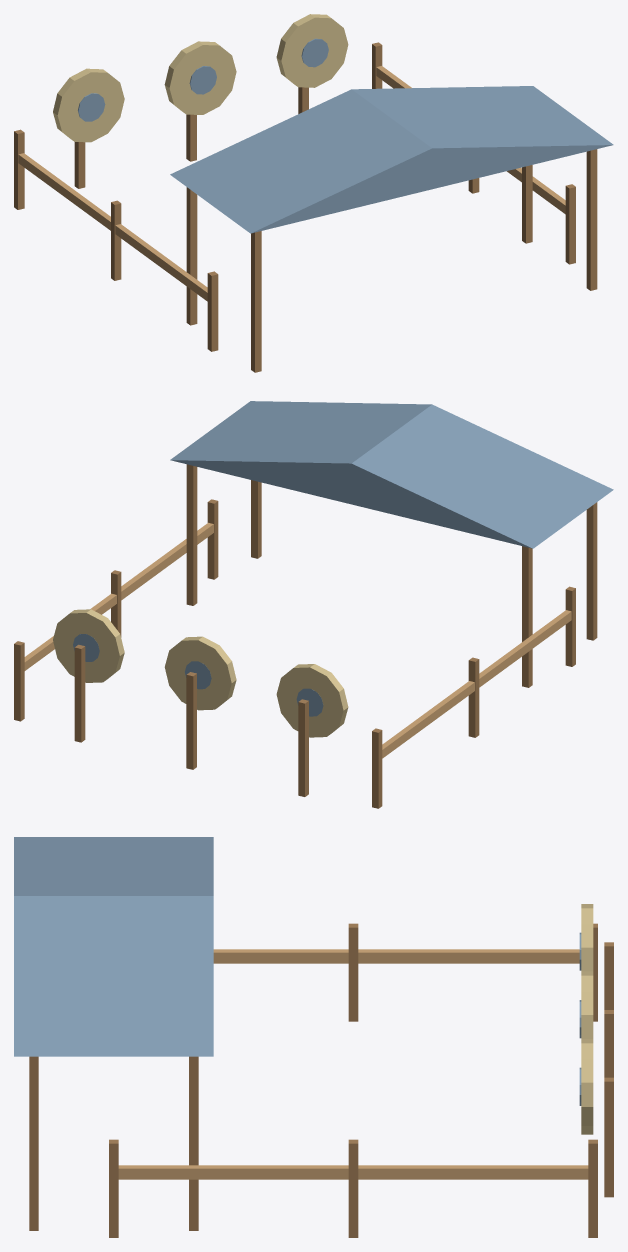
Rendered from archery-range.glb.
3 renders of one model, top to bottom at view 1: azimuth 30°, elevation 25°; view 2: azimuth 150°, elevation 25°; view 3: azimuth 270°, elevation 25°, orthographic. The views are drawn at different scales.
Visible parts, largest first — view 1: archery-range; view 2: archery-range; view 3: archery-range.
Part boxes in pixels (left/top/right/bottom): archery-range: left=14, top=14, right=613, bottom=372; archery-range: left=14, top=401, right=613, bottom=808; archery-range: left=14, top=837, right=613, bottom=1237.
Bounding box in the file's own units: 6.52 × 3.2 × 7.51.
